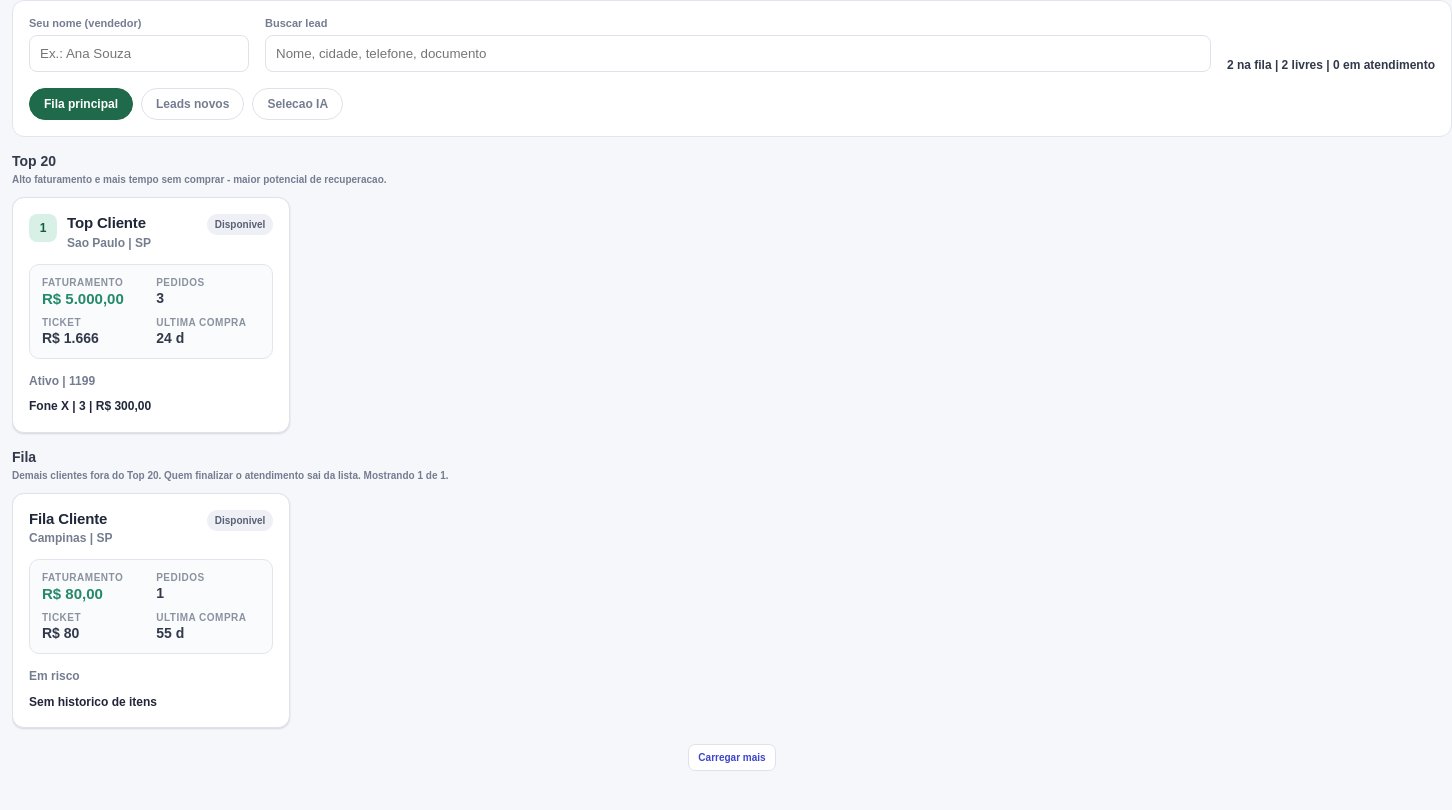
Scenario: carregar mais acumula fila sem refazer a query principal
Check: the text "Fila Cliente" is shown, box [29, 510, 107, 526]
Click the button "Carregar mais".
click(732, 758)  # box [688, 744, 776, 771]
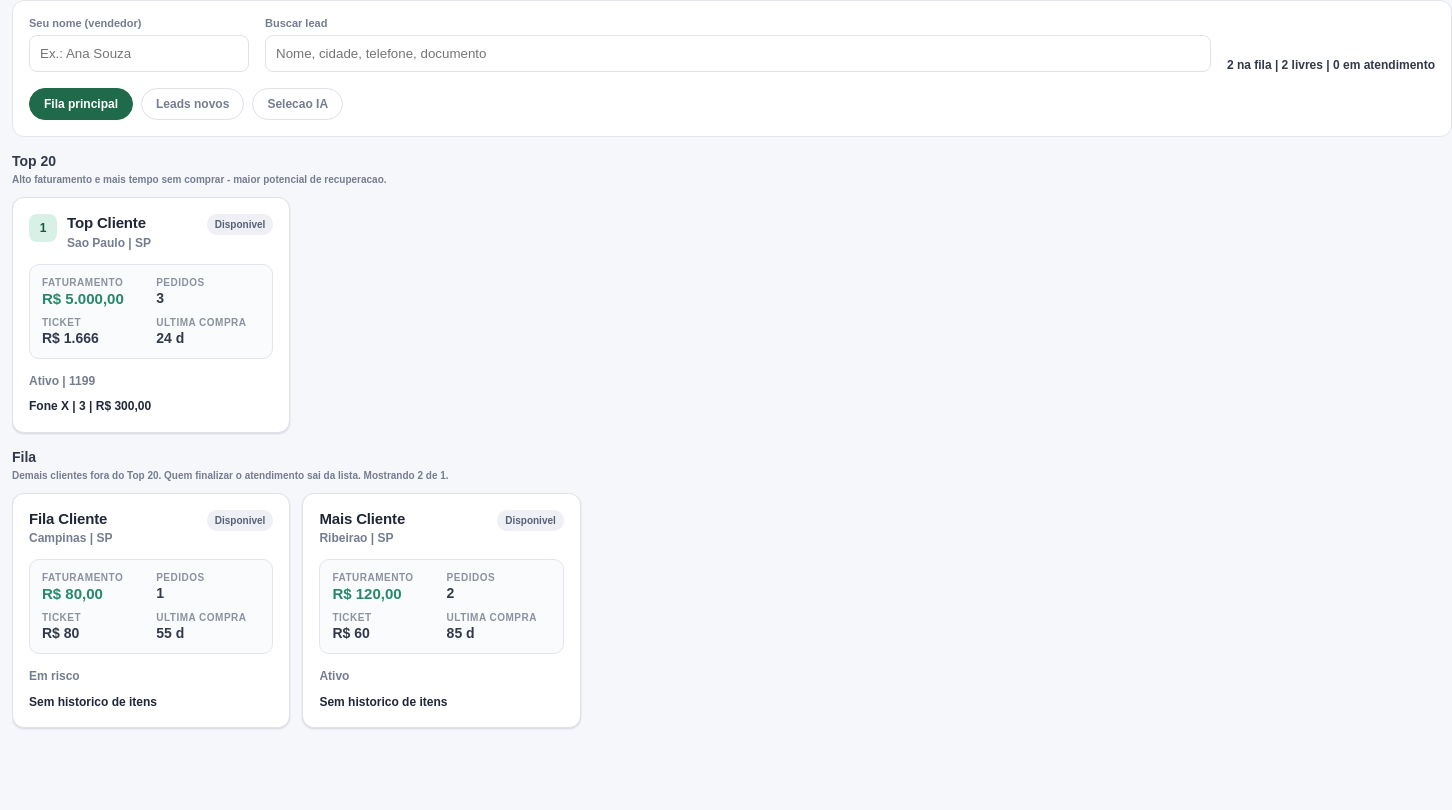
Check: the text "Fila Cliente" is shown, box [29, 510, 107, 526]
Check: the text "Mais Cliente" is shown, box [319, 510, 405, 526]
